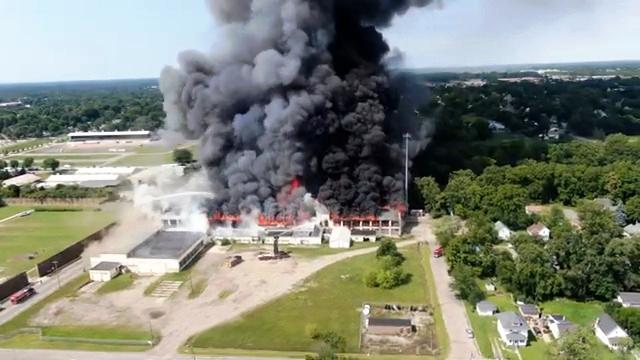smoke: (295, 0, 391, 195), (220, 2, 300, 212), (261, 49, 301, 210), (161, 55, 227, 138), (355, 74, 389, 213), (317, 78, 352, 210)
